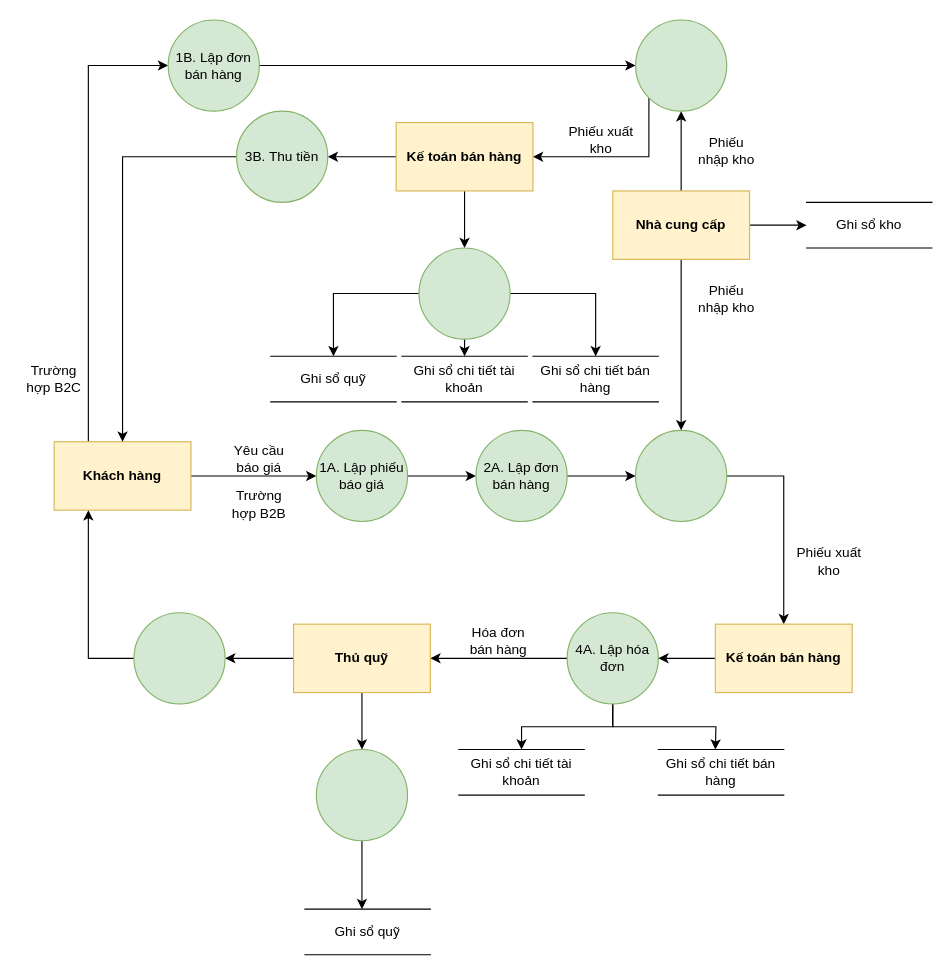
This 952x975 diagram has some shape labels left out. Here are the shapes that lost their labels. From the top down, the centre of each, then its label:
At (x=680, y=65): "2B. Kiểm tra phiếu nhập kho".
At (x=464, y=293): "4B. Lập hóa đơn kiêm phiếu thu".
At (x=680, y=475): "3A. Kiểm tra phiếu nhập kho".
At (x=179, y=658): "5A. Thu tiền".
At (x=361, y=794): "6A. Lập phiếu thu".
